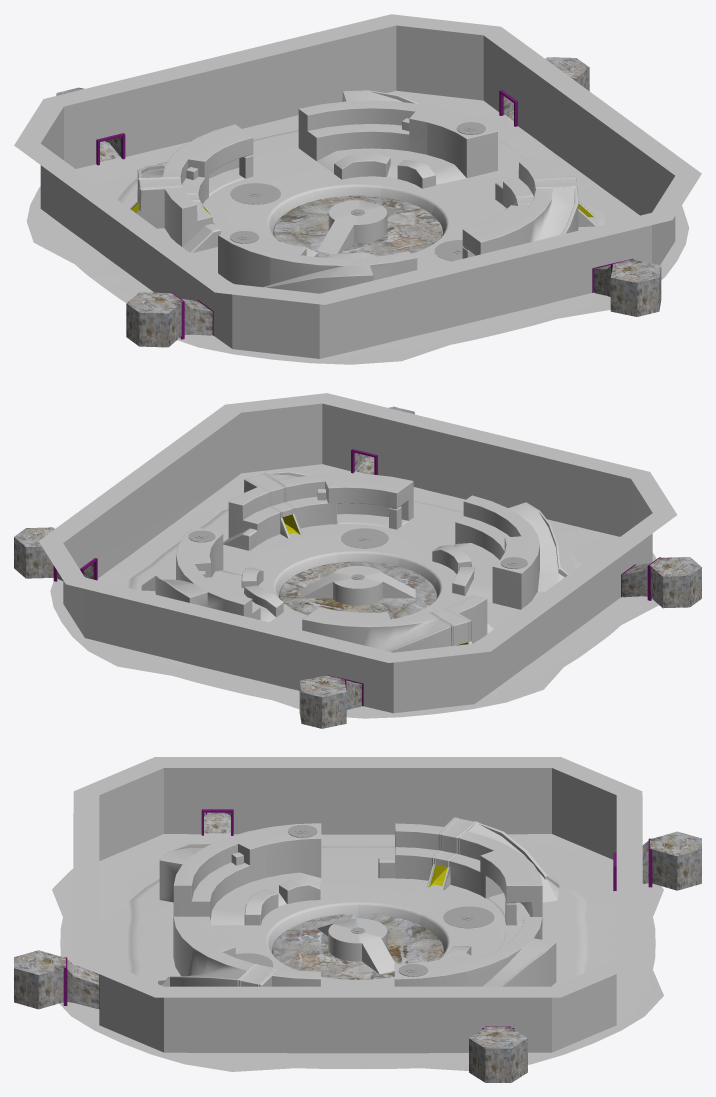
The model's file is LevelDetailedTextured.fbx.
The picture shows the model from 3 angles, top to bottom: view 1: azimuth 30°, elevation 25°; view 2: azimuth 150°, elevation 25°; view 3: azimuth 270°, elevation 25°; orthographic projection. The views are drawn at different scales.
Visible parts, largest first — view 1: polySurface47 (×4), courtyard_outer_5 (×2), polySurface30 (×2), polySurface46, polySurface34, polySurface43, polySurface44, polySurface45, polySurface42, courtyard_cover1, polySurface51, polySurface38 (+8 smaller); view 2: polySurface47 (×4), polySurface30 (×2), courtyard_outer_5 (×2), polySurface42, polySurface41, courtyard_cover1 (×2), polySurface46, polySurface34, polySurface38, polySurface45, polySurface39, polySurface51 (+6 smaller); view 3: polySurface47 (×4), polySurface30 (×2), courtyard_outer_5 (×2), polySurface43, polySurface38, polySurface44, polySurface34, polySurface45, polySurface39, polySurface41, polySurface50, polySurface42 (+7 smaller).
Part boxes in pixels (box(x1,y1,x2,y2)): polySurface47 (×4): box(14, 14, 701, 358); courtyard_outer_5 (×2): box(218, 90, 497, 293); polySurface30 (×2): box(130, 124, 596, 258); polySurface46: box(380, 95, 578, 213); polySurface34: box(273, 195, 442, 257); polySurface43: box(39, 142, 315, 222); polySurface44: box(26, 188, 278, 286); polySurface45: box(242, 90, 439, 200); polySurface42: box(431, 171, 689, 260); courtyard_cover1: box(316, 148, 466, 188); polySurface51: box(126, 292, 212, 347); polySurface38: box(272, 266, 504, 364); polySurface47 (×4): box(38, 393, 676, 713); polySurface30 (×2): box(228, 471, 487, 652); courtyard_outer_5 (×2): box(141, 495, 568, 620); polySurface42: box(152, 468, 337, 578); polySurface41: box(282, 464, 465, 565); courtyard_cover1 (×2): box(211, 543, 499, 622); polySurface46: box(50, 539, 289, 621); polySurface34: box(279, 561, 436, 619); polySurface38: box(397, 511, 654, 586); polySurface45: box(61, 596, 307, 688); polySurface39: box(430, 555, 658, 646); polySurface51: box(622, 557, 701, 608); polySurface47 (×4): box(73, 757, 642, 1053); polySurface30 (×2): box(158, 817, 559, 986); courtyard_outer_5 (×2): box(159, 823, 556, 986); polySurface43: box(419, 847, 663, 950); polySurface38: box(52, 847, 296, 950); polySurface44: box(358, 834, 583, 924); polySurface34: box(272, 913, 443, 979); polySurface45: box(438, 941, 663, 1042); polySurface39: box(132, 833, 357, 924); polySurface41: box(59, 941, 292, 1042); polySurface50: box(14, 950, 98, 1009); polySurface42: box(122, 968, 357, 1071).
Bounding box in the file's own units: 186 × 22 × 186.
